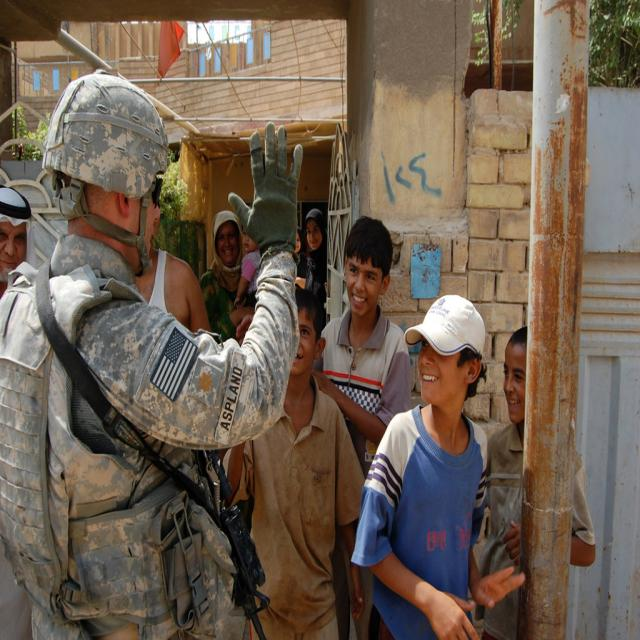Hat: (403, 293, 484, 359)
